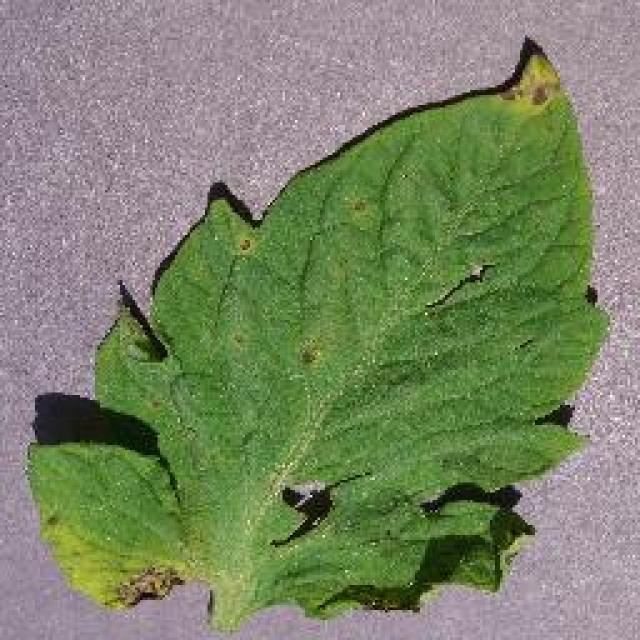Tomato___Septoria_leaf_spot: (28, 45, 608, 628)
